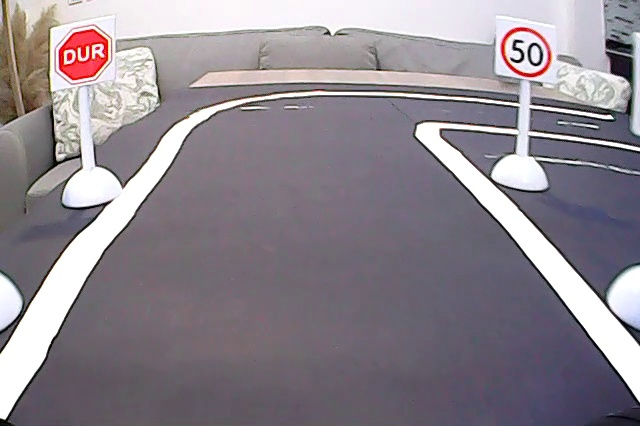speed limit 50: (501, 22, 554, 80)
stop sign: (51, 27, 116, 86)
